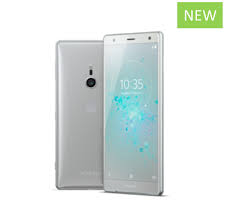sony: (50, 28, 167, 197)
